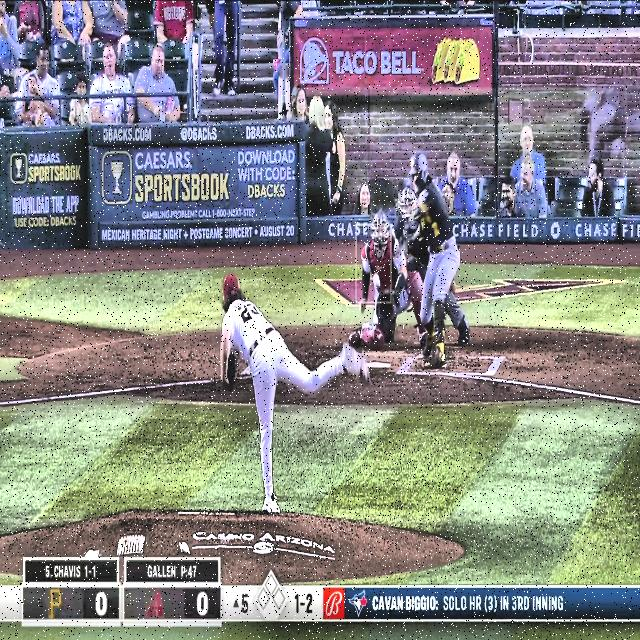baseball: (372, 272, 380, 288)
